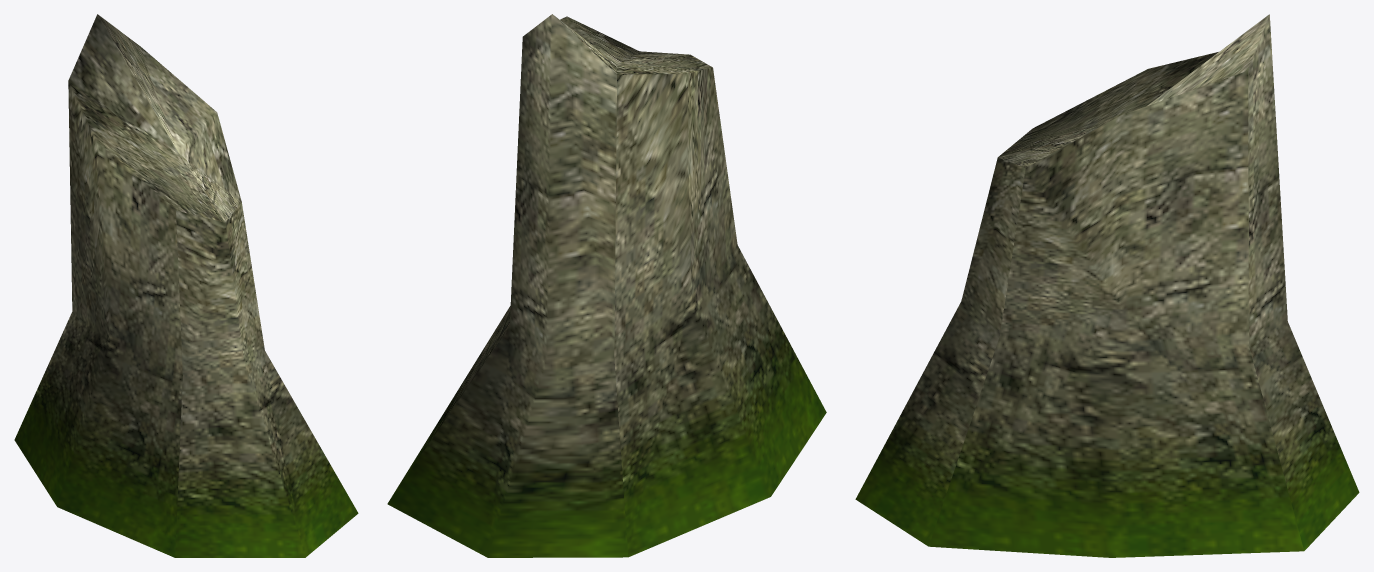
File: nast16.dae
3 views of the same model, side by side, from view 1: azimuth 30°, elevation 25°; view 2: azimuth 150°, elevation 25°; view 3: azimuth 270°, elevation 25° (orthographic). The views are drawn at different scales.
Visible parts, largest first — view 1: stones04; view 2: stones04; view 3: stones04.
Boxes of the visible parts, x1,y1,x2,y2 form: stones04: [14, 14, 358, 557]; stones04: [387, 14, 826, 557]; stones04: [855, 14, 1359, 557].
Bounding box in the file's own units: 2.17 × 3.49 × 3.6.
1 material, 1 textured.
